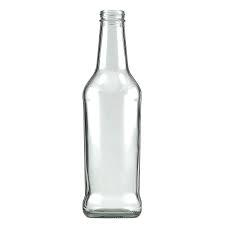Glass bottle: (76, 5, 148, 219)
